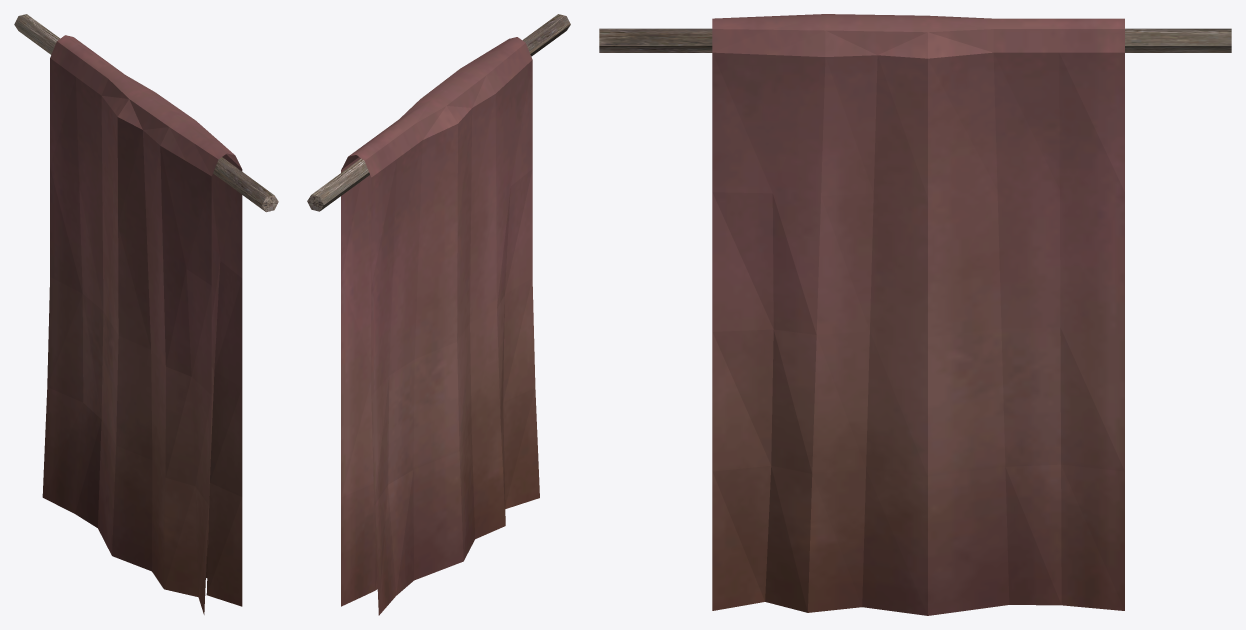
Rendered from bg_anh_mirrorv_dc10_sm_ysi.FBX.
The picture shows the model from 3 angles, left to right: view 1: azimuth 30°, elevation 25°; view 2: azimuth 150°, elevation 25°; view 3: azimuth 270°, elevation 25°; orthographic projection. The views are drawn at different scales.
Parts seen in each view (by area): view 1: bg_anh_mirrorv_dc10_sm_ysi; view 2: bg_anh_mirrorv_dc10_sm_ysi; view 3: bg_anh_mirrorv_dc10_sm_ysi.
Part boxes in pixels (x1,y1,x2,y2): bg_anh_mirrorv_dc10_sm_ysi: [14, 14, 278, 614]; bg_anh_mirrorv_dc10_sm_ysi: [307, 14, 570, 615]; bg_anh_mirrorv_dc10_sm_ysi: [599, 14, 1231, 615].
Bounding box in the file's own units: 22.32 × 176 × 173.
